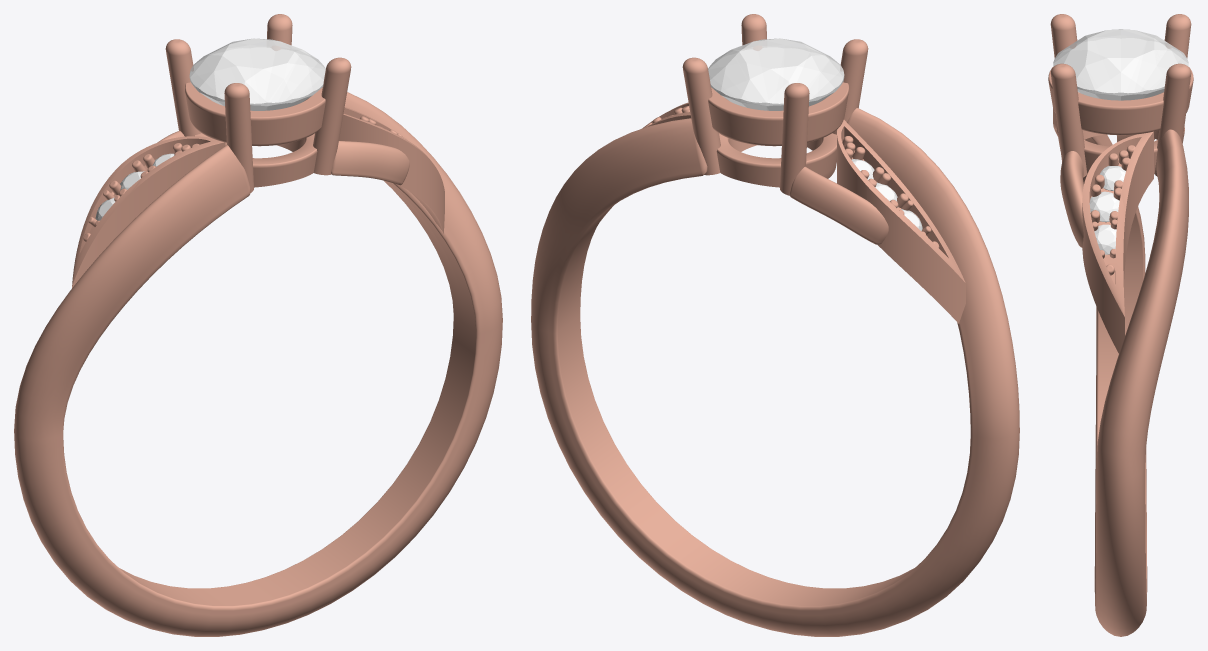
Rendered from Rose Gold Diamond.glb.
3 views of the same model, side by side, from view 1: azimuth 30°, elevation 25°; view 2: azimuth 150°, elevation 25°; view 3: azimuth 270°, elevation 25° (orthographic).
Visible parts, largest first — view 1: Object_2, Object_5, Object_4, Object_3; view 2: Object_2, Object_5, Object_4; view 3: Object_2, Object_5, Object_4, Object_3.
Part boxes in pixels (x1,y1,x2,y2): Object_2: (14, 14, 502, 636); Object_5: (95, 48, 324, 220); Object_4: (189, 38, 325, 106); Object_3: (331, 141, 409, 185); Object_2: (531, 14, 1019, 636); Object_5: (709, 48, 922, 230); Object_4: (708, 38, 844, 106); Object_2: (1048, 14, 1193, 636); Object_5: (1054, 38, 1187, 254); Object_4: (1053, 29, 1188, 96); Object_3: (1060, 151, 1083, 247).
Bounding box in the file's own units: 0.022 × 0.0251 × 0.0058.
